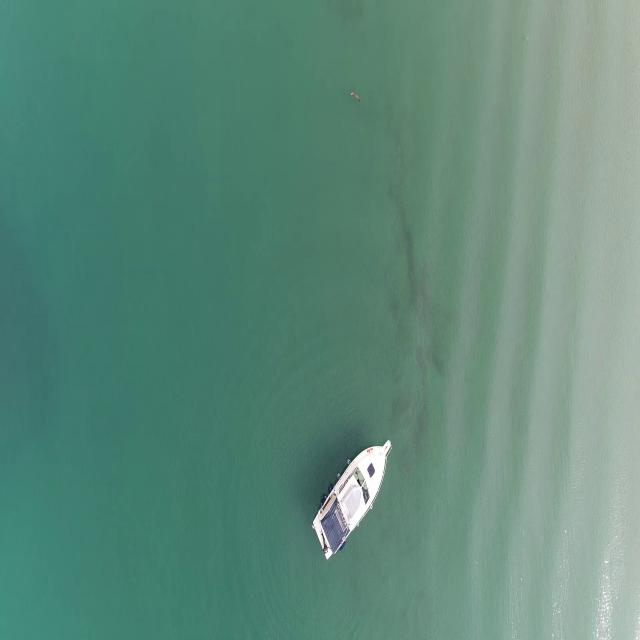boat: (313, 435, 391, 567)
wood: (350, 90, 362, 104)
